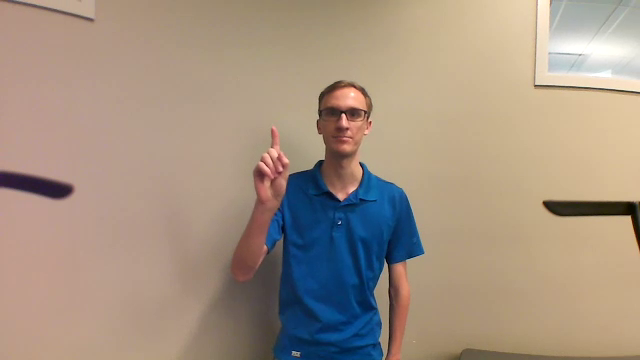up: (250, 123, 293, 211)
